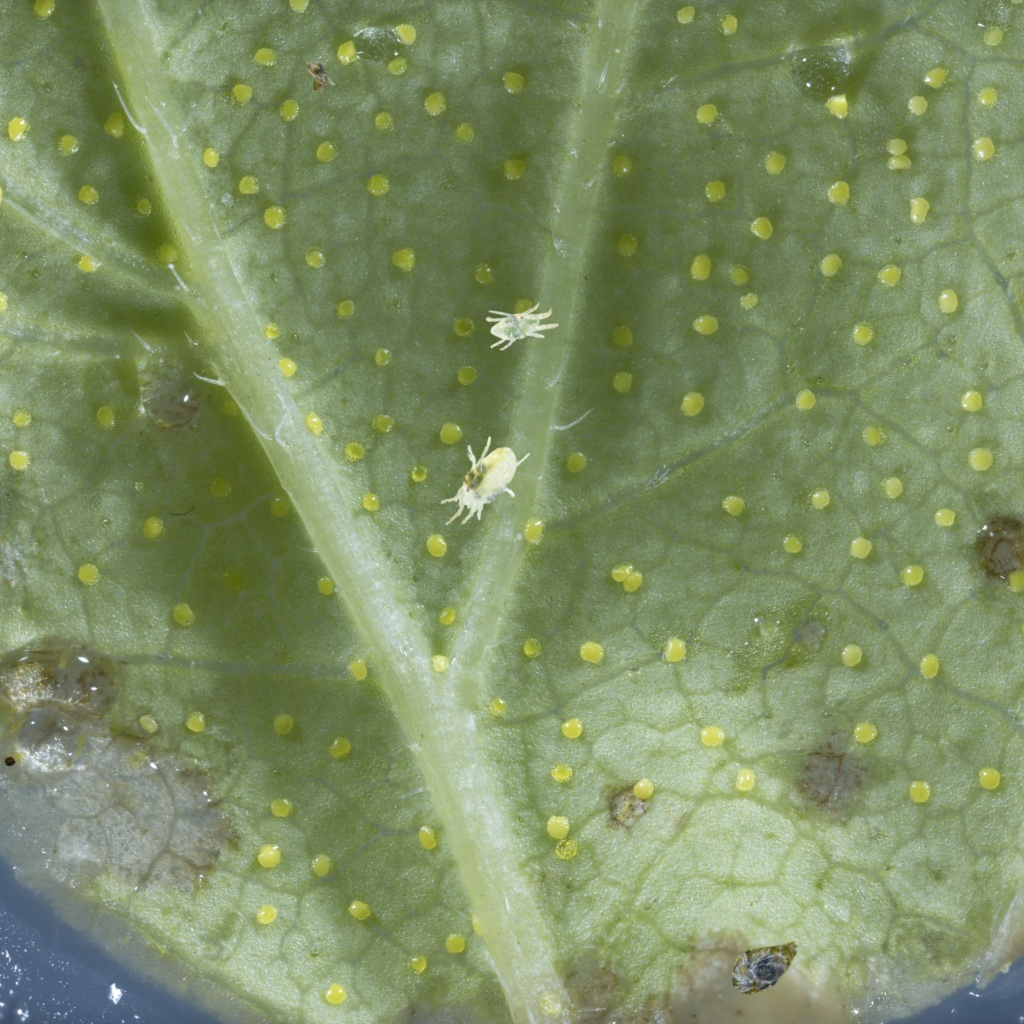Adult_female: (422, 425, 547, 533)
Adult_male: (484, 298, 562, 353)
Dead_mite: (727, 925, 801, 1006), (298, 53, 337, 97)
